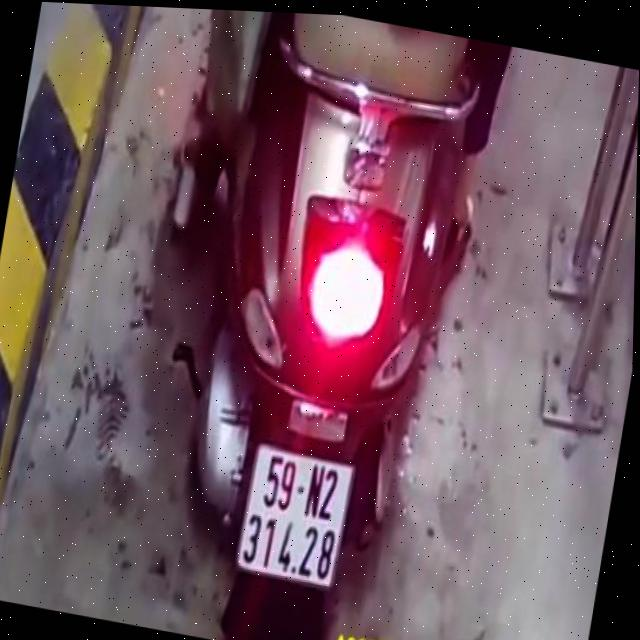motorcycle: (153, 7, 486, 640)
plate: (226, 437, 362, 593)
